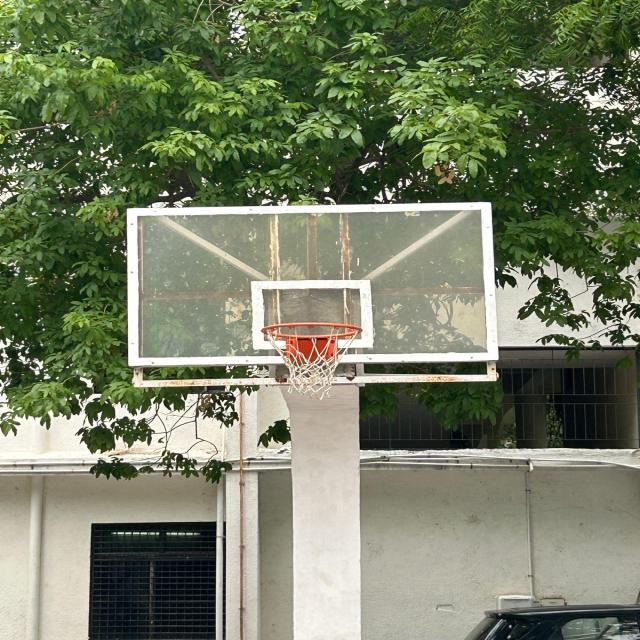hoop: (236, 268, 396, 410)
